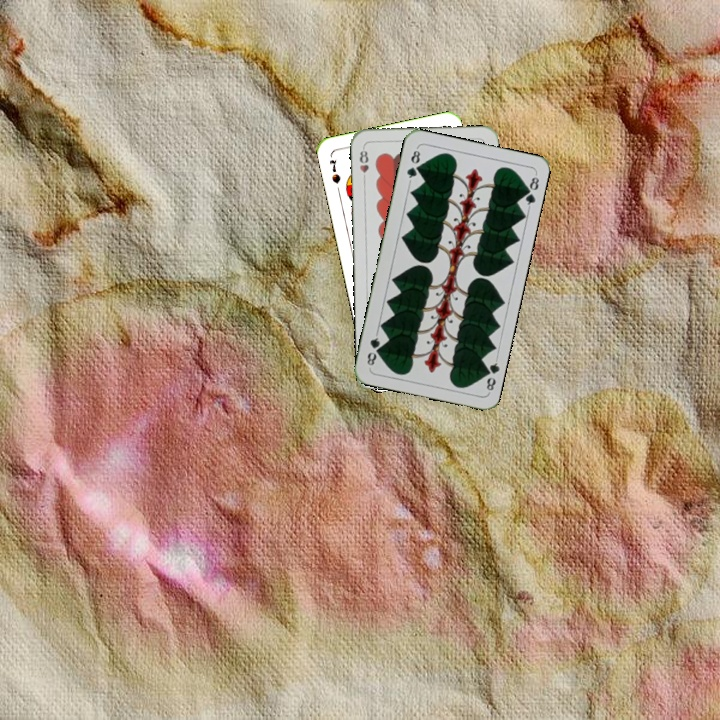G8: (479, 355, 502, 395), (403, 144, 423, 184)
H8: (356, 144, 371, 184)
S7: (325, 155, 343, 186)
